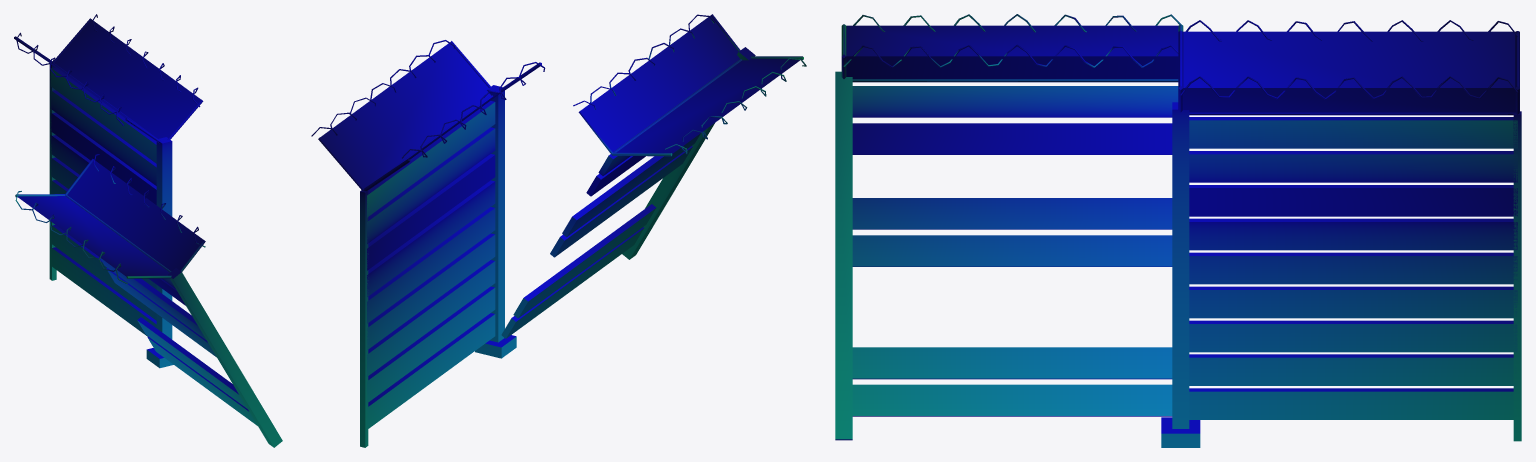
File: razorwirefence_damaged.glb
The picture shows the model from 3 angles, left to right: view 1: azimuth 30°, elevation 25°; view 2: azimuth 150°, elevation 25°; view 3: azimuth 270°, elevation 25°; orthographic projection. The views are drawn at different scales.
Parts seen in each view (by area): view 1: lod0; view 2: lod0; view 3: lod0.
Boxes of the visible parts, x1,y1,x2,y2 form: lod0: (14, 14, 282, 447); lod0: (311, 14, 806, 447); lod0: (835, 14, 1521, 447).
Size of what is drawn, in the model's own units: 4.46 by 5.55 by 8.76.
